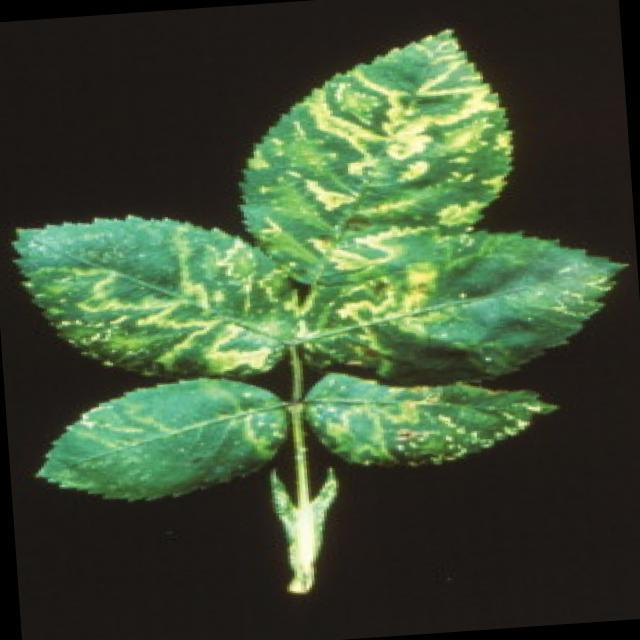Mosaic Virus: (248, 19, 512, 288), (287, 238, 619, 378), (31, 205, 285, 368), (31, 372, 288, 504), (298, 362, 572, 482)
